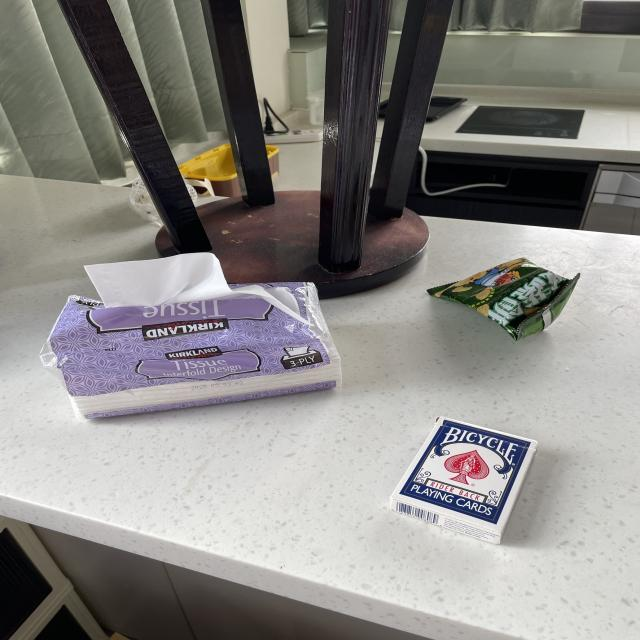tissue: (36, 247, 344, 427)
